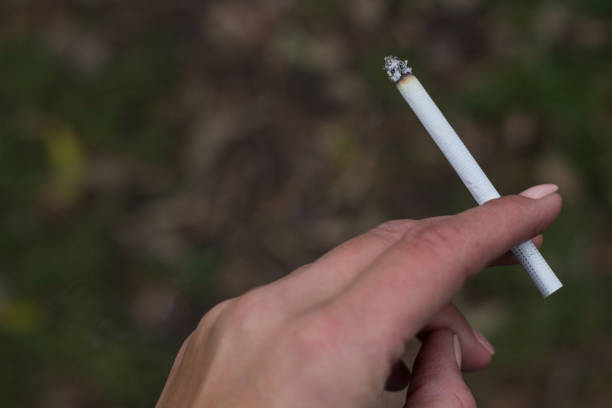cigarette: (384, 50, 564, 303)
